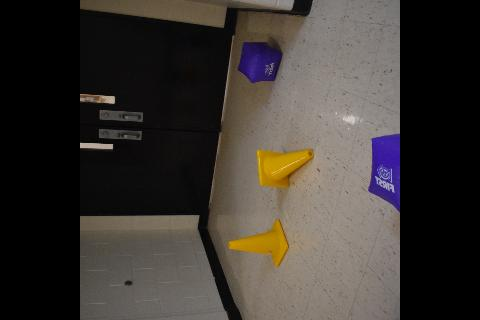cone: (228, 218, 288, 266), (256, 149, 314, 187)
cube: (368, 132, 400, 212), (237, 42, 282, 82)
